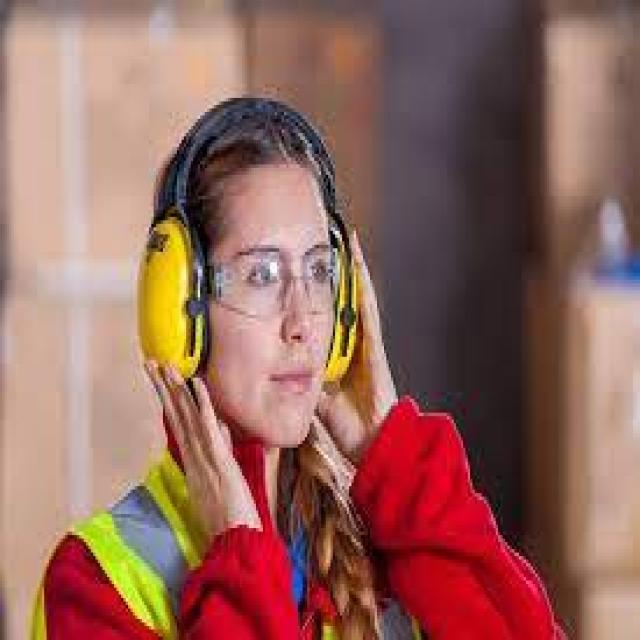glasses: (212, 240, 346, 319)
